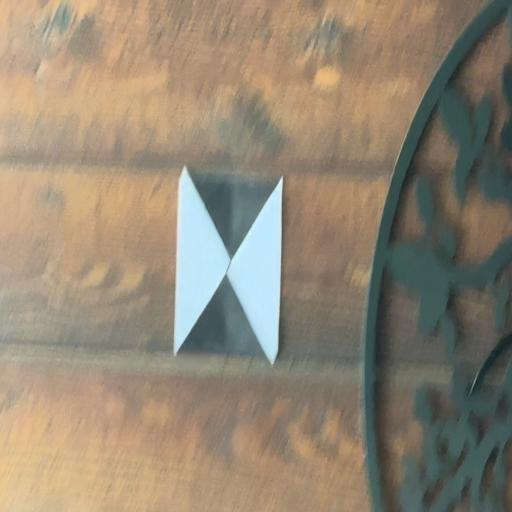target: (179, 166, 279, 360)
